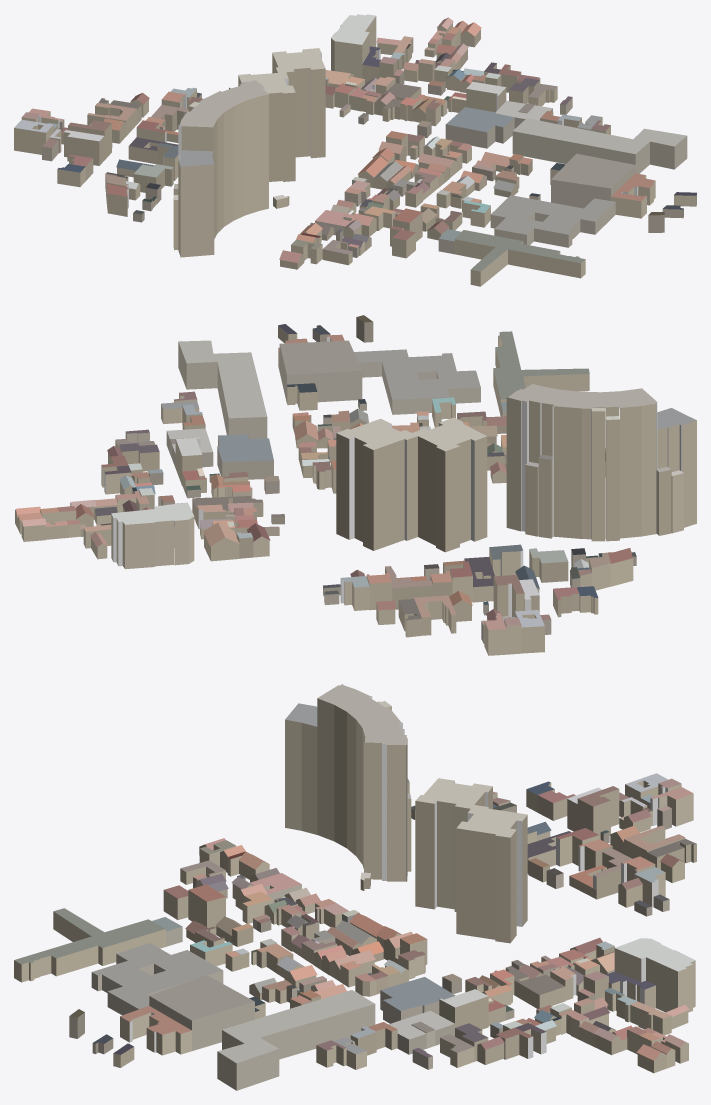
The picture shows the model from 3 angles, top to bottom: view 1: azimuth 30°, elevation 25°; view 2: azimuth 150°, elevation 25°; view 3: azimuth 270°, elevation 25°; orthographic projection. The views are drawn at different scales.
Parts seen in each view (by area): view 1: tuile; view 2: tuile; view 3: tuile.
Boxes of the visible parts, x1=… form: tuile: x1=14, y1=14, x2=696, y2=286; tuile: x1=15, y1=315, x2=696, y2=655; tuile: x1=14, y1=684, x2=696, y2=1090.
Size of the model in its own units: 279 by 62.53 by 277.
